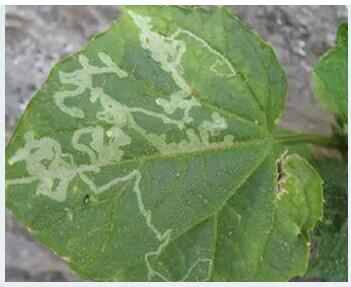liriomyza: (5, 8, 236, 283)
